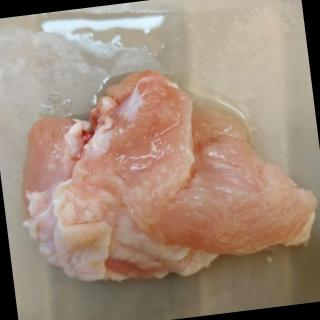Ayam: (5, 50, 320, 296)
